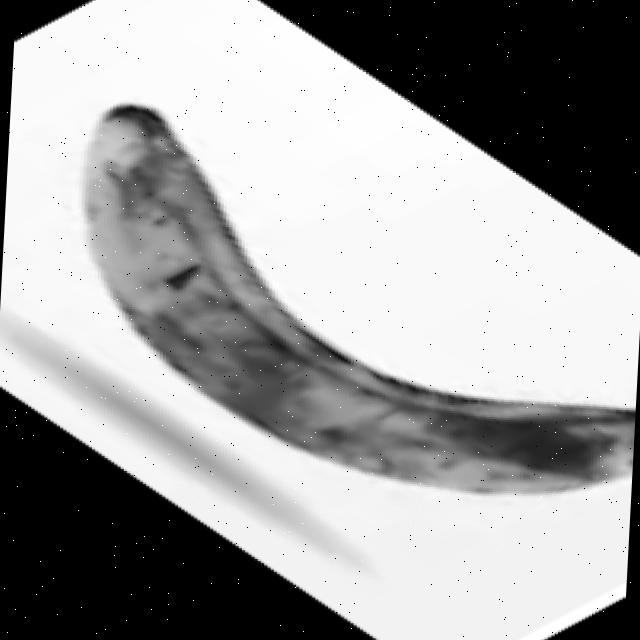overripe: (61, 96, 640, 507)
